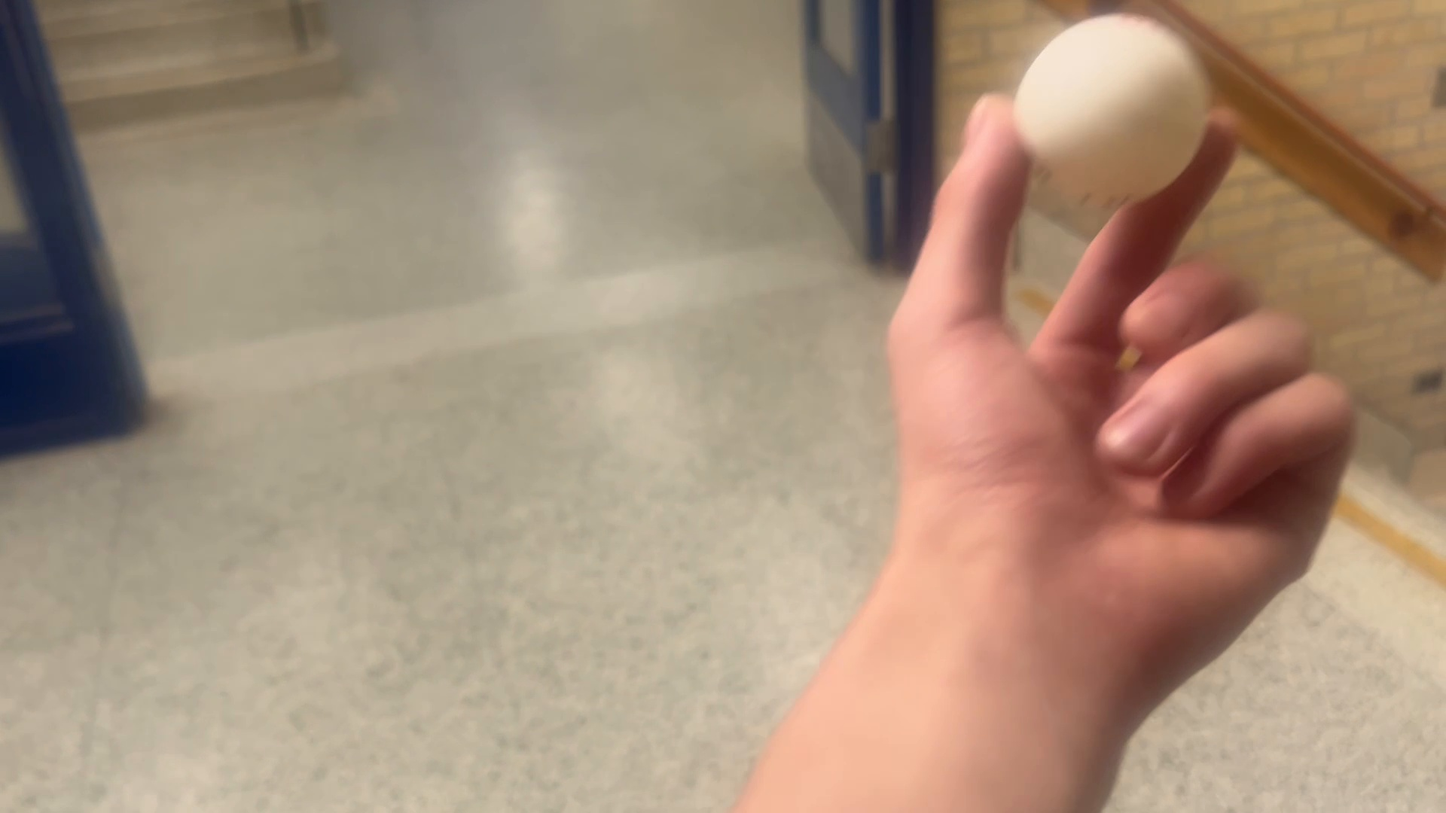Ball: (1006, 6, 1219, 205)
